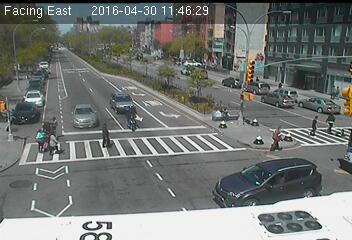neg: (229, 62, 256, 98), (278, 172, 303, 206), (170, 69, 195, 102), (85, 166, 107, 197), (248, 193, 270, 223), (123, 49, 145, 78), (123, 197, 145, 226), (170, 150, 190, 177), (123, 106, 141, 129), (44, 68, 61, 90), (81, 44, 95, 63), (210, 118, 224, 137)
pos: (268, 122, 290, 151), (94, 121, 113, 146), (303, 111, 322, 135), (28, 127, 46, 150), (49, 134, 65, 156), (326, 109, 342, 130), (49, 114, 61, 130)
